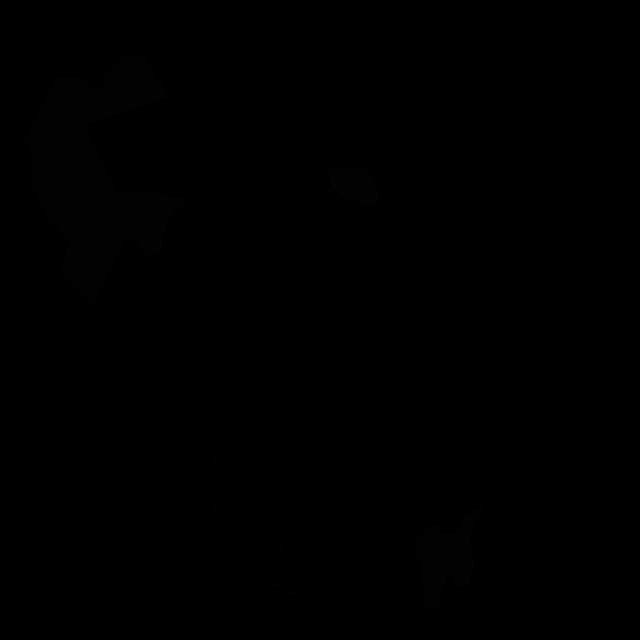cardboard: (25, 54, 186, 304), (412, 503, 485, 609)
metal: (330, 165, 378, 205)
rigid_plastic: (206, 436, 306, 598)
